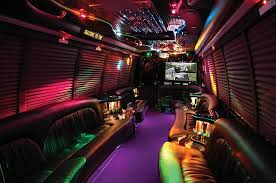bus: (1, 1, 274, 181)
